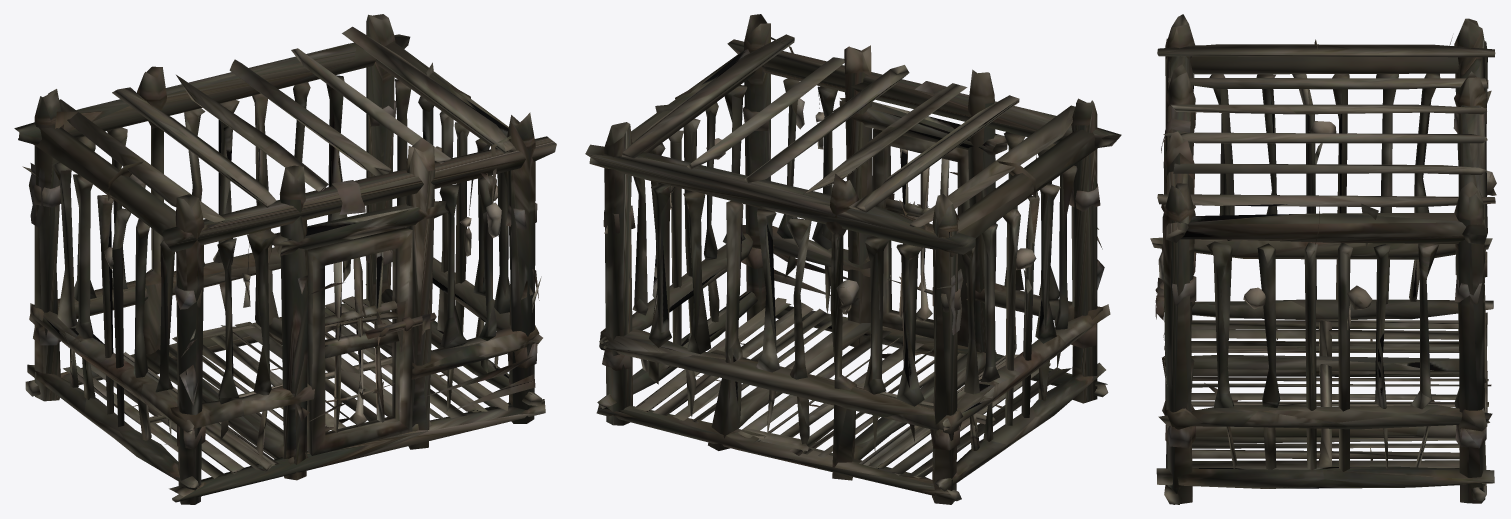
File: KolossJaula.glb
3 renders of one model, left to right at view 1: azimuth 30°, elevation 25°; view 2: azimuth 150°, elevation 25°; view 3: azimuth 270°, elevation 25°, orthographic. The views are drawn at different scales.
Visible parts, largest first — view 1: KolossJaula; view 2: KolossJaula; view 3: KolossJaula.
Boxes of the visible parts, bbox=[...] form: KolossJaula: bbox=[14, 14, 556, 504]; KolossJaula: bbox=[585, 14, 1121, 504]; KolossJaula: bbox=[1150, 14, 1496, 504].
Size of the model in its own units: 3.46 by 2.6 by 2.57.
1 material, 1 textured.
